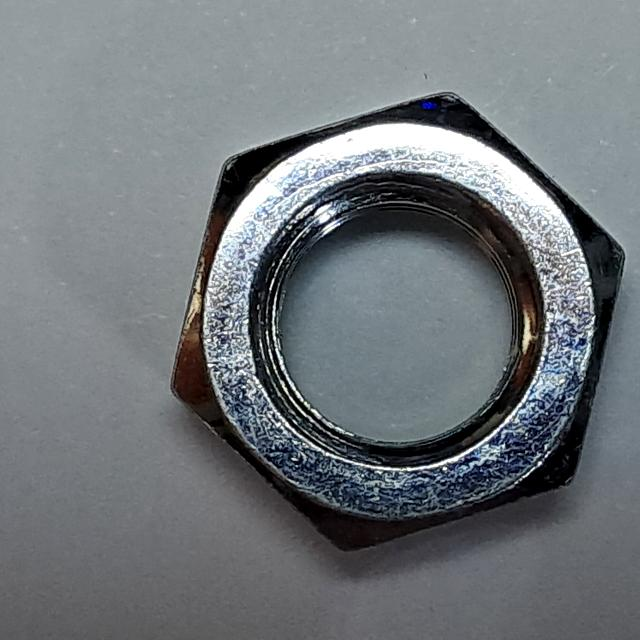Excellent: (151, 78, 636, 567)
